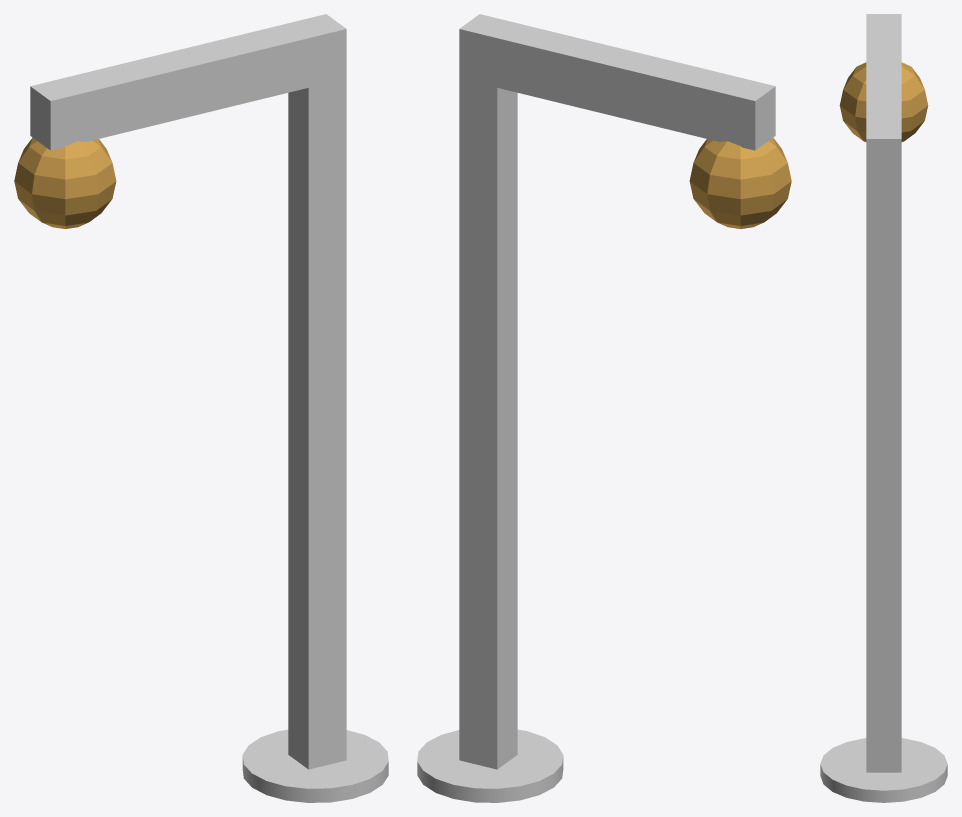
The model's file is Street lights.fbx.
3 renders of one model, left to right at view 1: azimuth 30°, elevation 25°; view 2: azimuth 150°, elevation 25°; view 3: azimuth 270°, elevation 25°, orthographic. The views are drawn at different scales.
Visible parts, largest first — view 1: polySurface1; view 2: polySurface1; view 3: polySurface1.
Boxes of the visible parts, x1,y1,x2,y2 form: polySurface1: [14, 14, 388, 802]; polySurface1: [417, 14, 791, 802]; polySurface1: [820, 14, 947, 802].
Size of the model in its own units: 10.07 by 20.14 by 3.6.
